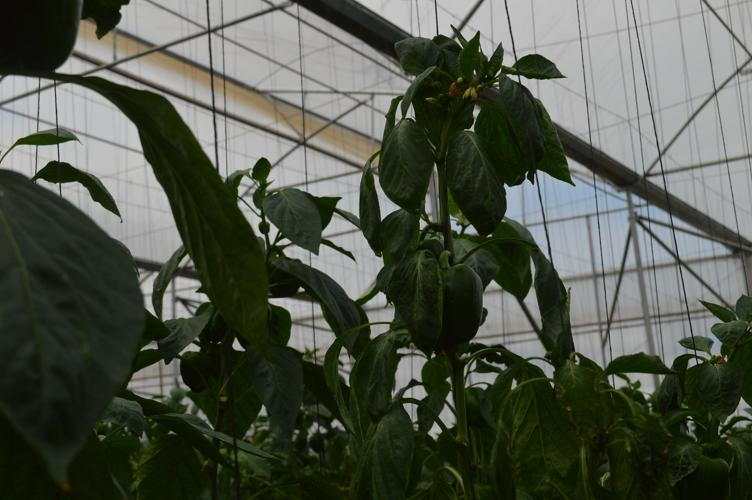BellPepper: (416, 262, 481, 345)
